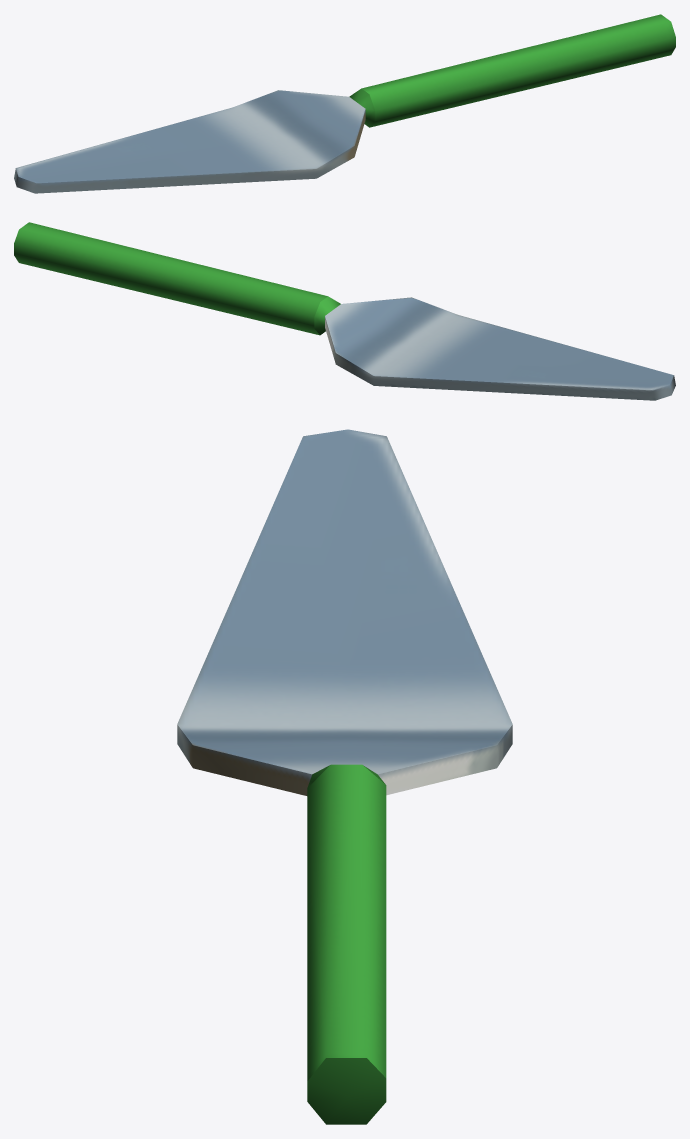
Rendered from Cake_Server_03.fbx.
3 renders of one model, top to bottom at view 1: azimuth 30°, elevation 25°; view 2: azimuth 150°, elevation 25°; view 3: azimuth 270°, elevation 25°, orthographic. The views are drawn at different scales.
Parts seen in each view (by area): view 1: Cake_Server_03; view 2: Cake_Server_03; view 3: Cake_Server_03.
Part boxes in pixels (bbox=[...]): Cake_Server_03: bbox=[14, 14, 675, 193]; Cake_Server_03: bbox=[14, 222, 675, 400]; Cake_Server_03: bbox=[177, 429, 512, 1124].
Bounding box in the file's own units: 114 × 5.64 × 25.22.
